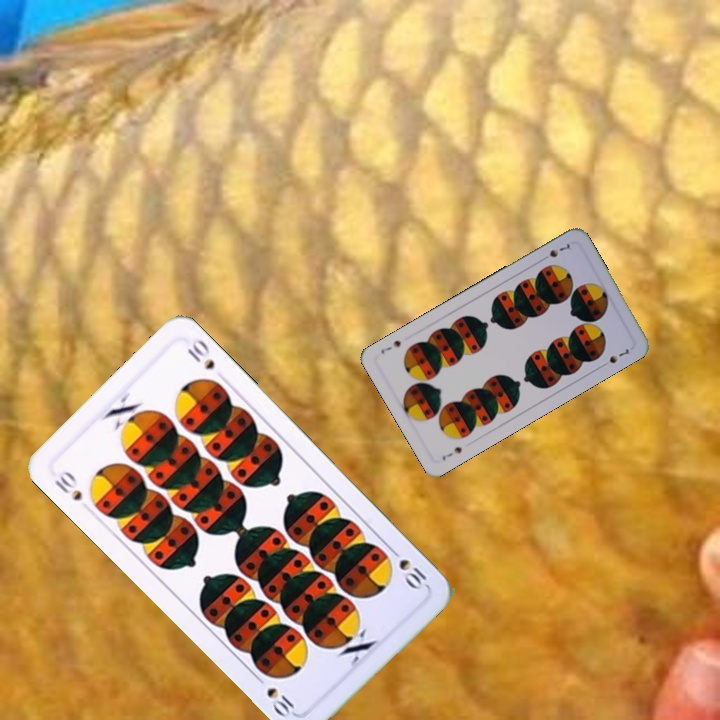S10: (385, 542, 430, 592), (50, 467, 85, 504)
S7: (537, 239, 572, 264), (438, 443, 465, 463)
